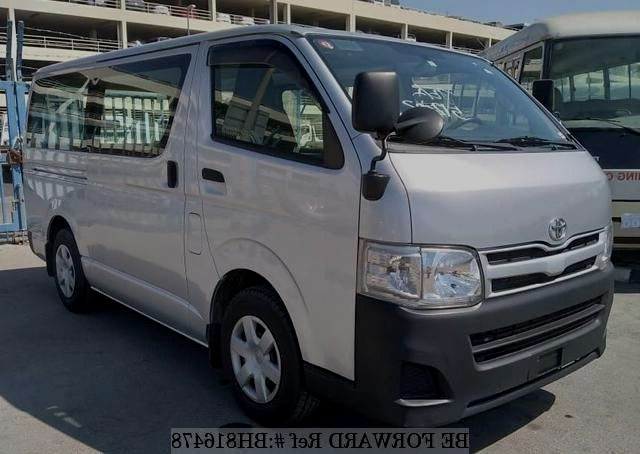van: (20, 20, 617, 410)
